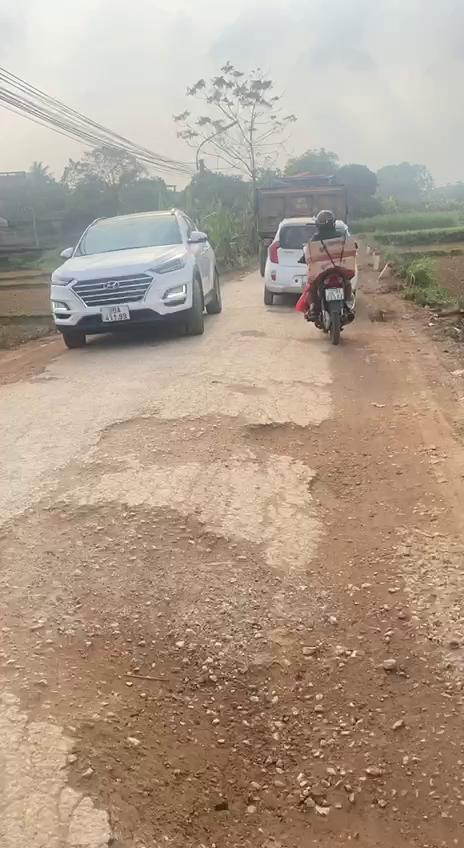pothole: (0, 493, 464, 848), (38, 407, 350, 507), (0, 361, 59, 387), (230, 382, 274, 400), (240, 328, 268, 340)
